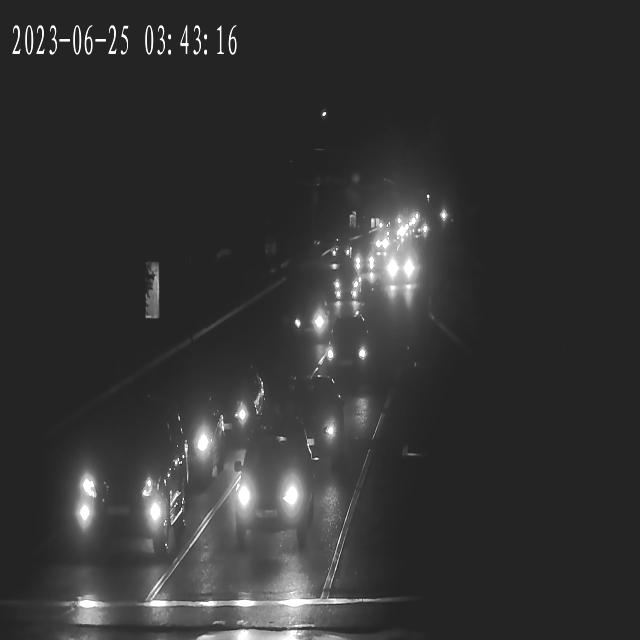Car: (59, 420, 185, 535), (230, 433, 316, 543), (141, 394, 232, 494), (178, 366, 272, 446), (288, 382, 346, 463), (322, 327, 372, 385), (282, 295, 330, 340), (385, 255, 420, 284), (332, 271, 360, 298), (326, 241, 356, 265), (351, 248, 377, 272), (391, 221, 411, 249), (371, 235, 394, 254), (403, 215, 419, 233), (411, 219, 426, 233)
